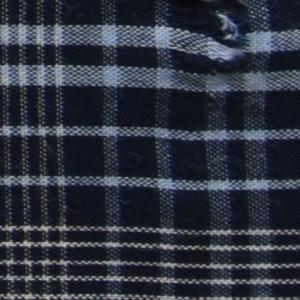Damage: (167, 1, 276, 102)
